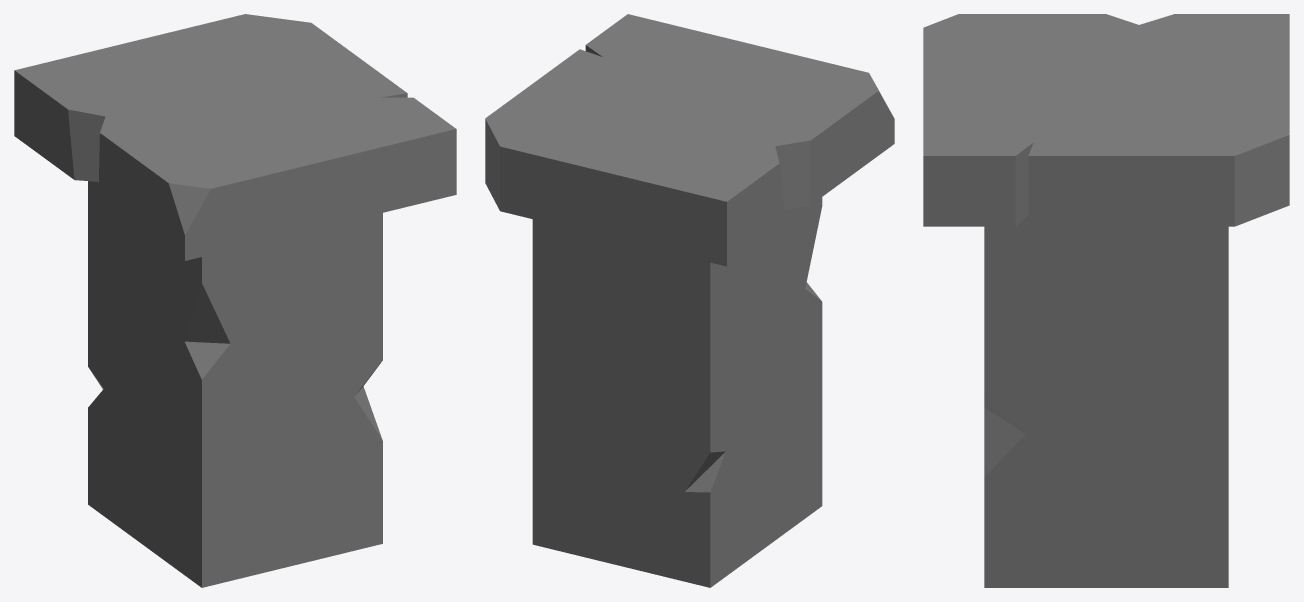
Rendered from stone_pillar2.fbx.
3 renders of one model, left to right at view 1: azimuth 30°, elevation 25°; view 2: azimuth 150°, elevation 25°; view 3: azimuth 270°, elevation 25°, orthographic. The views are drawn at different scales.
Parts seen in each view (by area): view 1: stone_pillar2; view 2: stone_pillar2; view 3: stone_pillar2.
Boxes of the visible parts, bbox=[...] form: stone_pillar2: bbox=[14, 14, 456, 587]; stone_pillar2: bbox=[485, 14, 894, 587]; stone_pillar2: bbox=[923, 14, 1289, 587].
Size of the model in its own units: 87.27 by 130 by 95.03.
